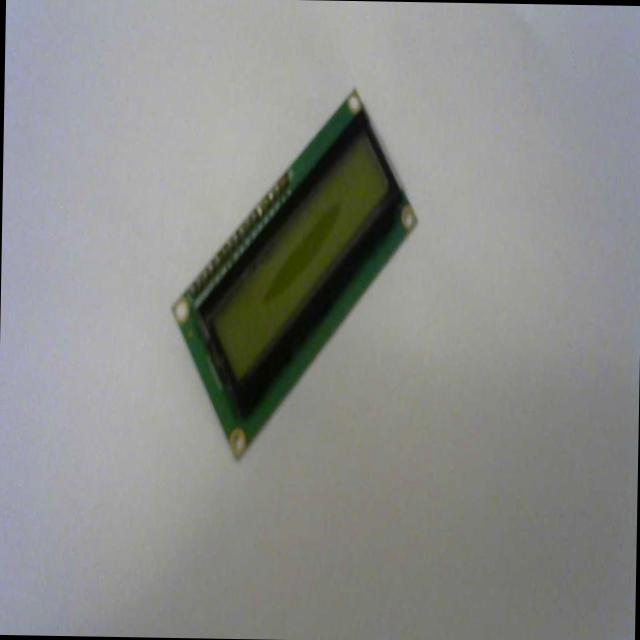lcd: (163, 80, 425, 473)
